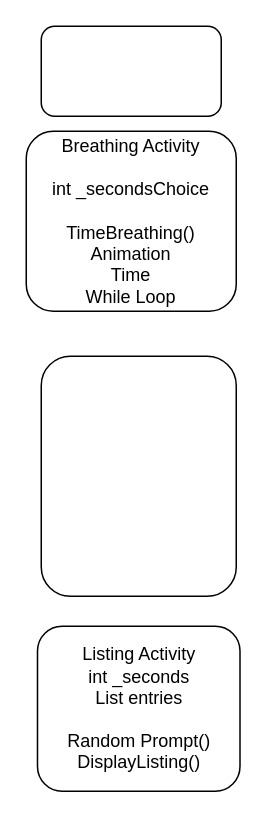
Image size: 267x818. Some labels were removed from this diagram. Each missing label, with the centre of its shape:
"Main" belongs at (130,70).
"Reflecting Activity int _seconds string prompt RandomPrompt() Time Animation" belongs at (138,475).
